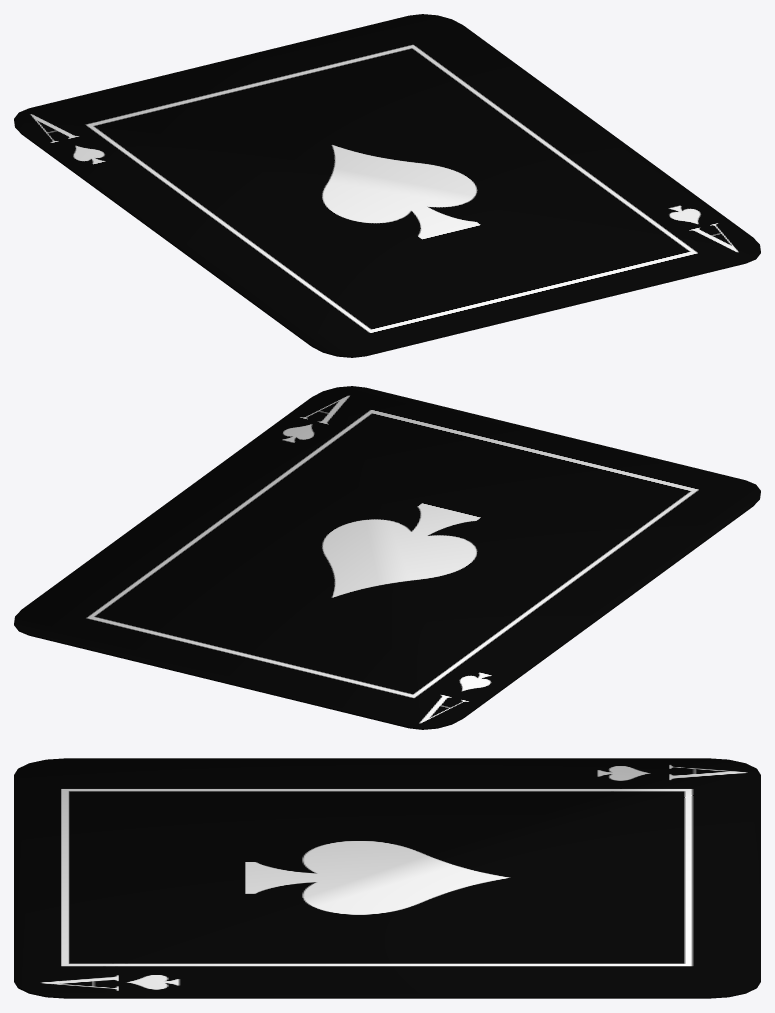
The model's file is As_de_pique.gltf.
The picture shows the model from 3 angles, top to bottom: view 1: azimuth 30°, elevation 25°; view 2: azimuth 150°, elevation 25°; view 3: azimuth 270°, elevation 25°; orthographic projection. The views are drawn at different scales.
Visible parts, largest first — view 1: Plane.001; view 2: Plane.001; view 3: Plane.001.
Boxes of the visible parts, <box> form: Plane.001: <box>14,14,760,357</box>; Plane.001: <box>14,386,760,729</box>; Plane.001: <box>14,758,760,998</box>.
Size of the model in its own units: 3.59 by 0.01 by 4.74.
2 materials, 2 textured.
